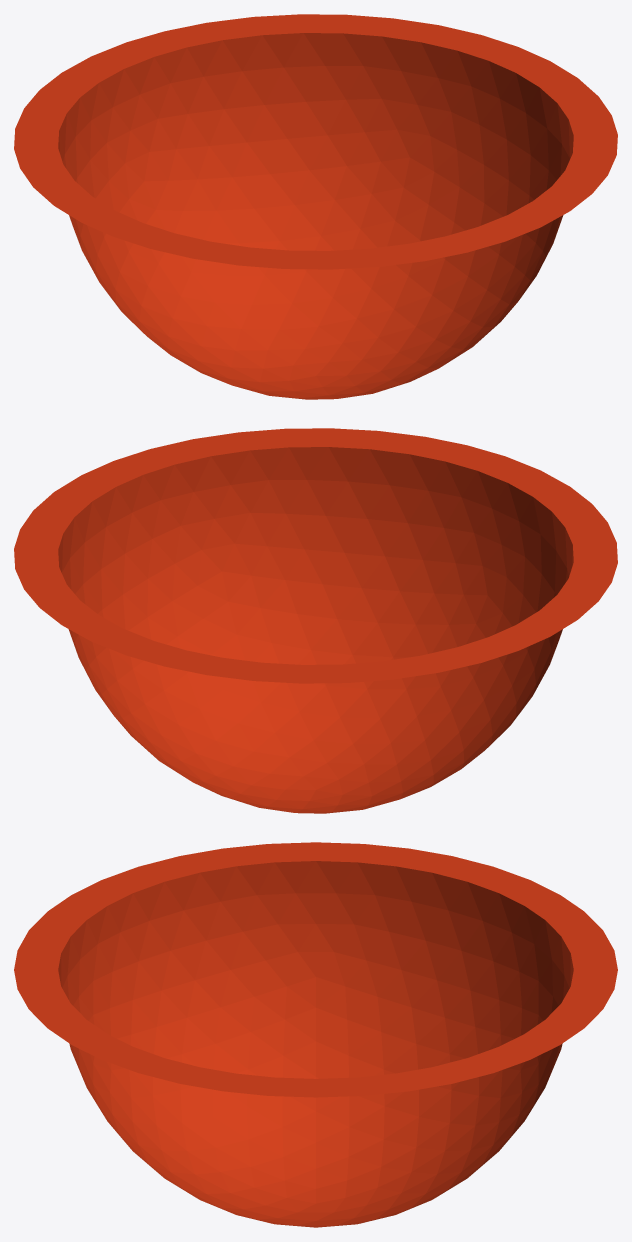
The model's file is hemisphere-test-export.glb.
3 renders of one model, top to bottom at view 1: azimuth 30°, elevation 25°; view 2: azimuth 150°, elevation 25°; view 3: azimuth 270°, elevation 25°, orthographic.
Visible parts, largest first — view 1: Icosphere; view 2: Icosphere; view 3: Icosphere.
Boxes of the visible parts, box(x1,y1,x2,y2) form: Icosphere: box(14, 14, 617, 399); Icosphere: box(14, 428, 617, 813); Icosphere: box(14, 842, 617, 1227).
Size of the model in its own units: 2.34 by 1 by 2.34.
